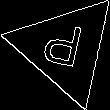P_S: (41, 19, 90, 77)
